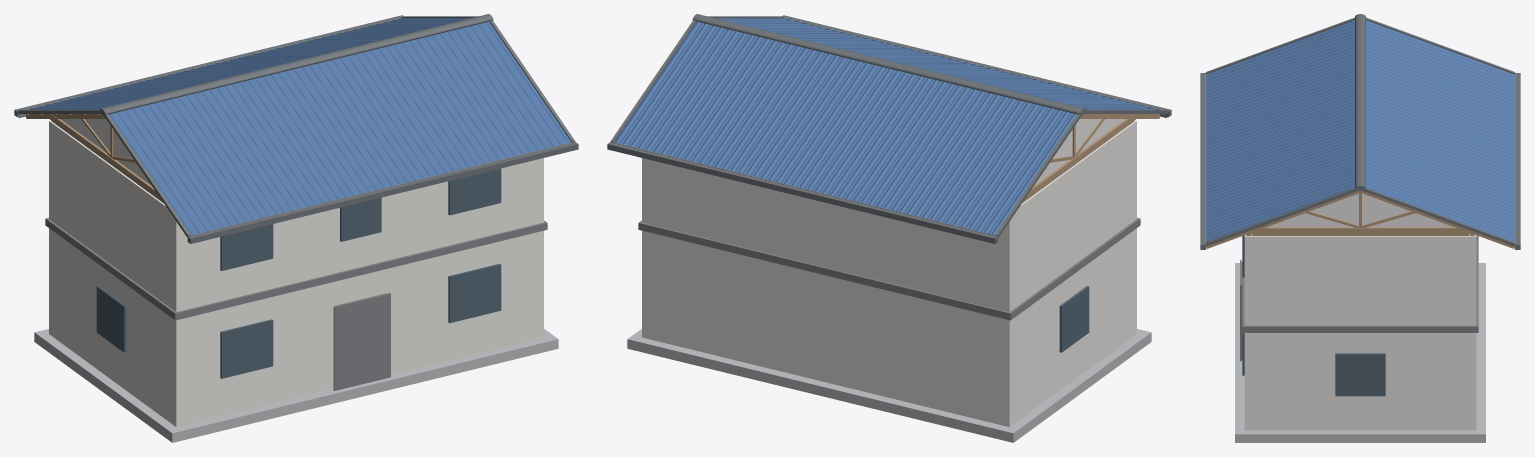
File: Mega_Six_Ribs_Large_Two_Storey_10x6.glb
3 views of the same model, side by side, from view 1: azimuth 30°, elevation 25°; view 2: azimuth 150°, elevation 25°; view 3: azimuth 270°, elevation 25° (orthographic). The views are drawn at different scales.
Parts seen in each view (by area): view 1: GroundFloor_Walls, Foundation, RoofSheet_09, RoofSheet_02, RoofSheet_05, RoofSheet_07, RoofSheet_08, RoofSheet_06, RoofSheet_03, RoofSheet_04, RoofSheet_10, RoofSheet_01 (+27 smaller); view 2: GroundFloor_Walls, Foundation, RoofSheet_19, RoofSheet_12, RoofSheet_15, RoofSheet_17, RoofSheet_18, RoofSheet_16, RoofSheet_13, RoofSheet_14, RoofSheet_20, RoofSheet_11 (+21 smaller); view 3: GroundFloor_Walls, Foundation, Gable_Wall_Right, RoofSheet_03, RoofSheet_04, RoofSheet_05, RoofSheet_06, RoofSheet_13, RoofSheet_14, RoofSheet_15, RoofSheet_16, RoofSheet_02 (+24 smaller).
Part boxes in pixels (x1=…): GroundFloor_Walls: x1=49, y1=120, x2=543, y2=426; Foundation: x1=34, y1=329, x2=558, y2=442; RoofSheet_09: x1=414, y1=30, x2=534, y2=160; RoofSheet_02: x1=145, y1=96, x2=265, y2=226; RoofSheet_05: x1=260, y1=68, x2=380, y2=197; RoofSheet_07: x1=337, y1=49, x2=457, y2=179; RoofSheet_08: x1=376, y1=40, x2=495, y2=169; RoofSheet_06: x1=299, y1=59, x2=419, y2=188; RoofSheet_03: x1=183, y1=87, x2=303, y2=216; RoofSheet_04: x1=222, y1=77, x2=342, y2=207; RoofSheet_10: x1=453, y1=22, x2=571, y2=150; RoofSheet_01: x1=109, y1=105, x2=226, y2=234; GroundFloor_Walls: x1=642, y1=120, x2=1136, y2=426; Foundation: x1=627, y1=329, x2=1151, y2=442; RoofSheet_19: x1=651, y1=30, x2=771, y2=160; RoofSheet_12: x1=920, y1=96, x2=1040, y2=226; RoofSheet_15: x1=805, y1=68, x2=925, y2=197; RoofSheet_17: x1=728, y1=49, x2=848, y2=179; RoofSheet_18: x1=690, y1=40, x2=809, y2=169; RoofSheet_16: x1=766, y1=59, x2=886, y2=188; RoofSheet_13: x1=882, y1=87, x2=1002, y2=216; RoofSheet_14: x1=843, y1=77, x2=963, y2=207; RoofSheet_20: x1=614, y1=22, x2=732, y2=150; RoofSheet_11: x1=959, y1=105, x2=1076, y2=234; GroundFloor_Walls: x1=1244, y1=233, x2=1476, y2=430; Foundation: x1=1235, y1=263, x2=1485, y2=442; Gable_Wall_Right: x1=1267, y1=193, x2=1453, y2=227; RoofSheet_03: x1=1206, y1=53, x2=1354, y2=124; RoofSheet_04: x1=1206, y1=70, x2=1354, y2=141; RoofSheet_05: x1=1206, y1=87, x2=1354, y2=158; RoofSheet_06: x1=1206, y1=104, x2=1354, y2=175; RoofSheet_13: x1=1366, y1=53, x2=1514, y2=124; RoofSheet_14: x1=1366, y1=70, x2=1514, y2=141; RoofSheet_15: x1=1366, y1=87, x2=1514, y2=158; RoofSheet_16: x1=1366, y1=104, x2=1514, y2=175; RoofSheet_02: x1=1206, y1=36, x2=1354, y2=107.
Size of the model in its own units: 10.55 by 7.36 by 8.3.
